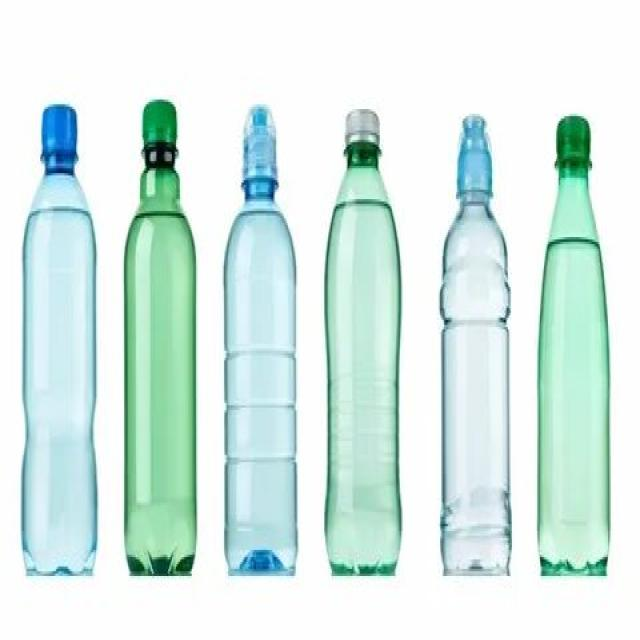blue: (20, 153, 98, 574), (223, 178, 297, 576), (441, 191, 512, 575)
green: (324, 141, 402, 575), (536, 161, 608, 577), (124, 167, 196, 574)
